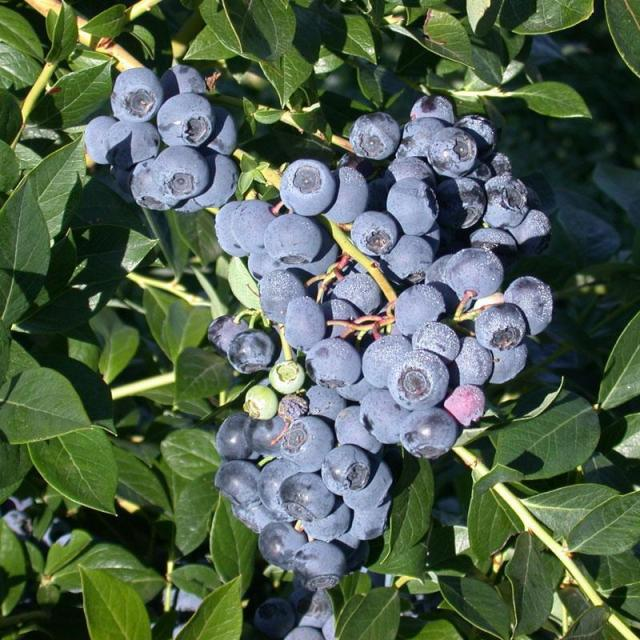BlueBerry - v1: (382, 348, 454, 414), (354, 326, 421, 394), (430, 242, 506, 300), (500, 270, 558, 344), (148, 88, 214, 152), (105, 60, 167, 127), (378, 174, 444, 236), (311, 160, 371, 228), (396, 408, 466, 466), (146, 138, 210, 201), (353, 382, 416, 446), (299, 338, 367, 397), (391, 278, 453, 340), (98, 114, 166, 170), (278, 414, 339, 476), (287, 538, 354, 594), (478, 166, 536, 229), (278, 468, 342, 524), (265, 210, 326, 268), (470, 298, 531, 356), (277, 156, 337, 214), (380, 228, 438, 288), (121, 156, 180, 214), (253, 266, 309, 327), (313, 442, 378, 494), (194, 150, 242, 220), (285, 292, 335, 359), (337, 458, 399, 512), (325, 402, 380, 461), (255, 518, 317, 570), (345, 208, 408, 258), (232, 198, 286, 255), (222, 324, 280, 377), (392, 110, 451, 162), (210, 406, 260, 467), (211, 456, 266, 511), (298, 374, 352, 430), (346, 108, 400, 163), (294, 500, 358, 546), (406, 318, 463, 369), (325, 270, 383, 320), (446, 328, 496, 386), (442, 378, 494, 432), (510, 200, 560, 255), (429, 122, 478, 178), (197, 96, 242, 156), (252, 458, 298, 516), (459, 222, 516, 268), (203, 302, 254, 353), (341, 498, 393, 548), (288, 582, 338, 634), (247, 588, 297, 638), (76, 110, 118, 166), (206, 198, 244, 259), (161, 50, 206, 101), (406, 90, 458, 134), (489, 338, 533, 389), (227, 502, 288, 538), (242, 406, 284, 457), (243, 376, 283, 426), (0, 498, 41, 546), (266, 354, 308, 398), (455, 108, 496, 151), (481, 142, 515, 174), (277, 621, 329, 640)
